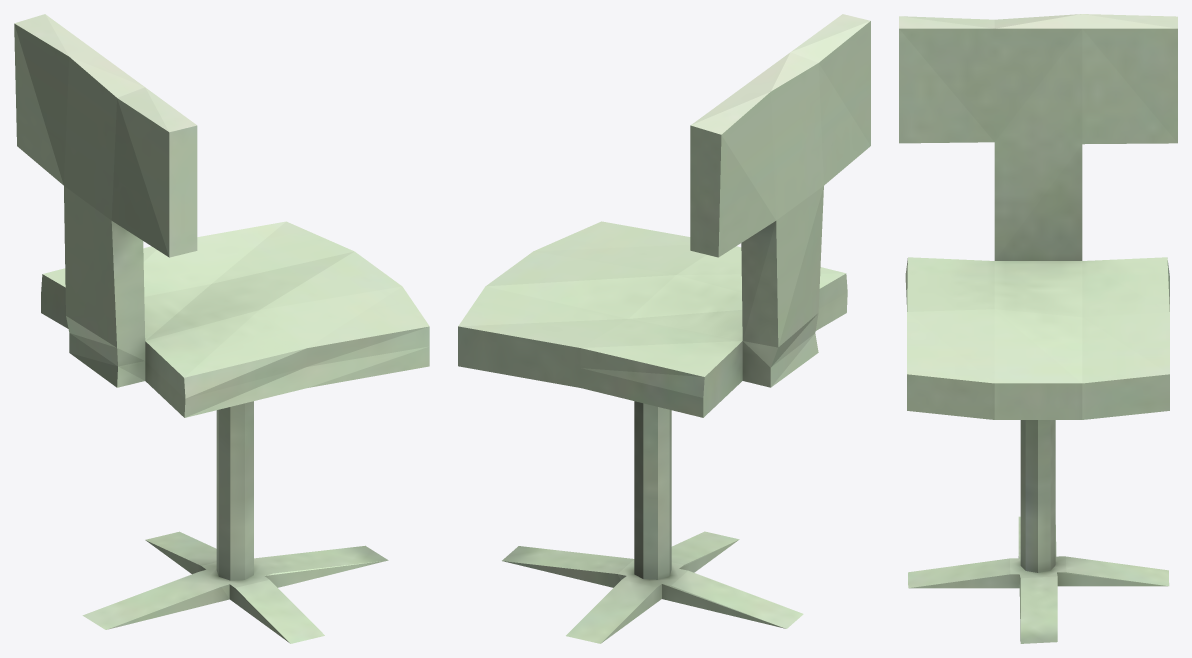
File: Chair 2.fbx
3 views of the same model, side by side, from view 1: azimuth 30°, elevation 25°; view 2: azimuth 150°, elevation 25°; view 3: azimuth 270°, elevation 25° (orthographic). The views are drawn at different scales.
Parts seen in each view (by area): view 1: Chair 2; view 2: Chair 2; view 3: Chair 2.
Part boxes in pixels (x1,y1,x2,y2): Chair 2: [14, 14, 429, 643]; Chair 2: [458, 14, 870, 643]; Chair 2: [899, 14, 1177, 643].
Size of the model in its own units: 81.91 by 147 by 74.19.
